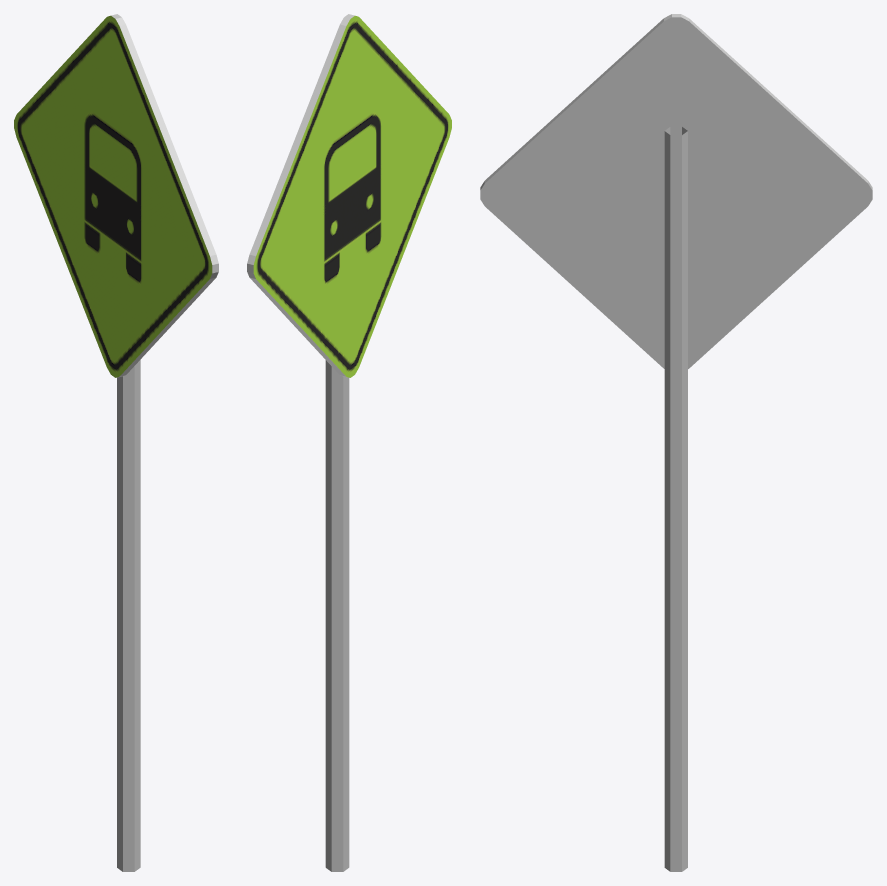
File: Sing2.fbx
The picture shows the model from 3 angles, left to right: view 1: azimuth 30°, elevation 25°; view 2: azimuth 150°, elevation 25°; view 3: azimuth 270°, elevation 25°; orthographic projection.
Visible parts, largest first — view 1: Circle.003; view 2: Circle.003; view 3: Circle.003.
Part boxes in pixels (x1,y1,x2,y2): Circle.003: (14,14,218,871); Circle.003: (247,14,451,871); Circle.003: (480,14,872,871).
Bounding box in the file's own units: 11.87 × 399 × 168.
